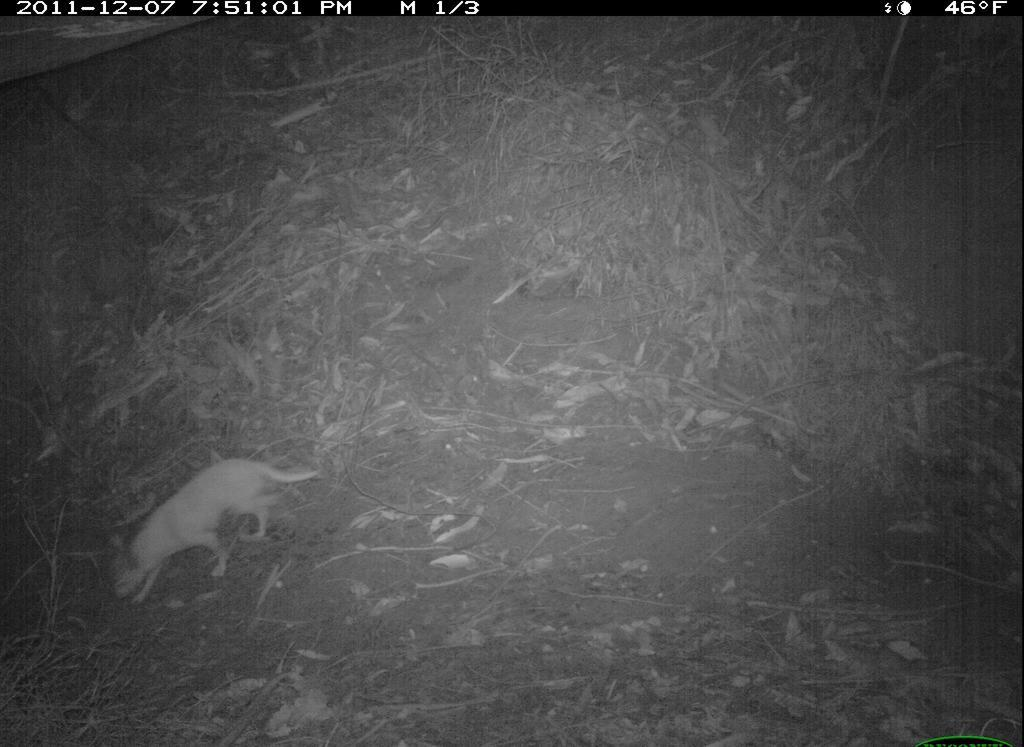dog: (117, 445, 331, 606)
